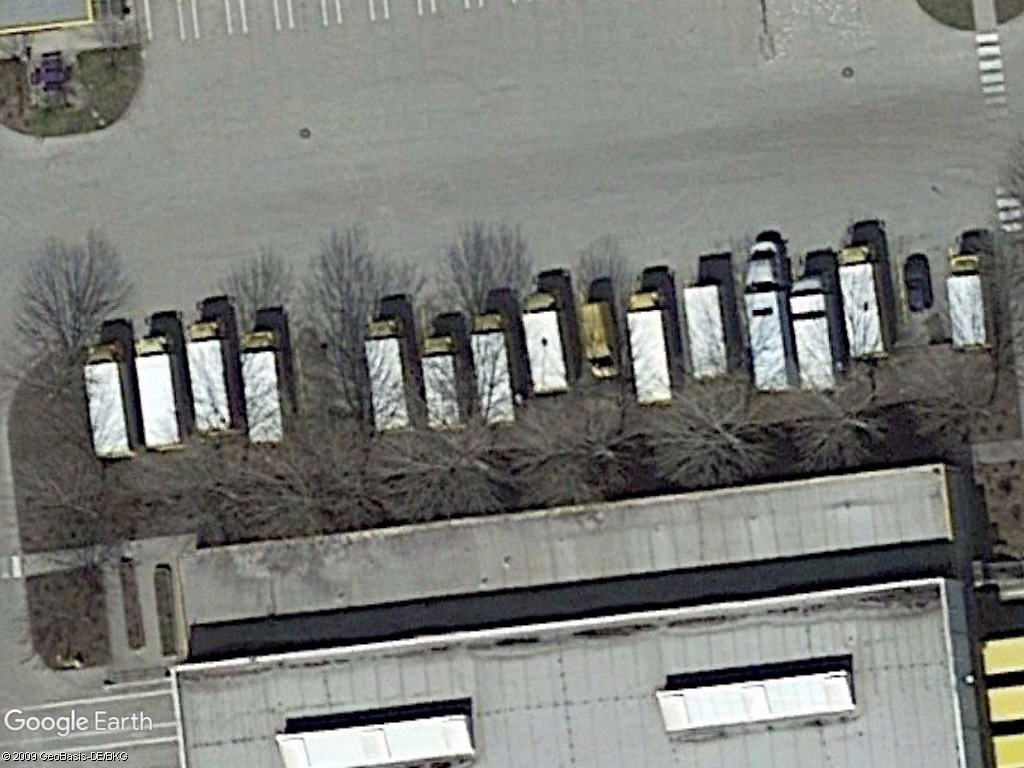truck: (742, 243, 797, 396), (80, 338, 138, 462), (236, 327, 295, 448), (127, 330, 186, 451), (835, 244, 894, 364), (621, 286, 679, 408), (182, 317, 238, 442), (361, 318, 417, 439), (466, 307, 519, 430), (515, 287, 570, 402), (789, 274, 842, 392), (682, 280, 734, 388), (944, 244, 993, 356), (415, 333, 465, 437)
van: (575, 298, 622, 382)
